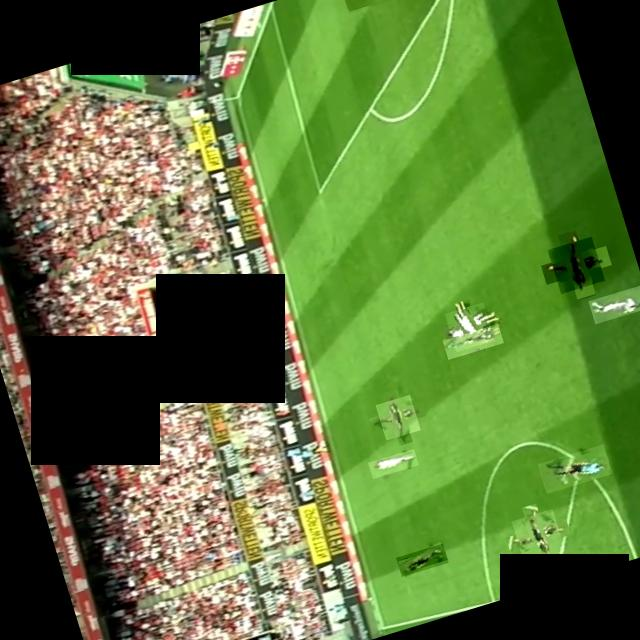goalkeeper: (338, 0, 417, 12)
referee: (537, 442, 612, 492)
soccer-player: (548, 235, 604, 292), (511, 507, 565, 562), (444, 300, 494, 350), (442, 322, 503, 358), (588, 283, 640, 323), (375, 393, 420, 439), (395, 542, 448, 575), (368, 448, 418, 478)
